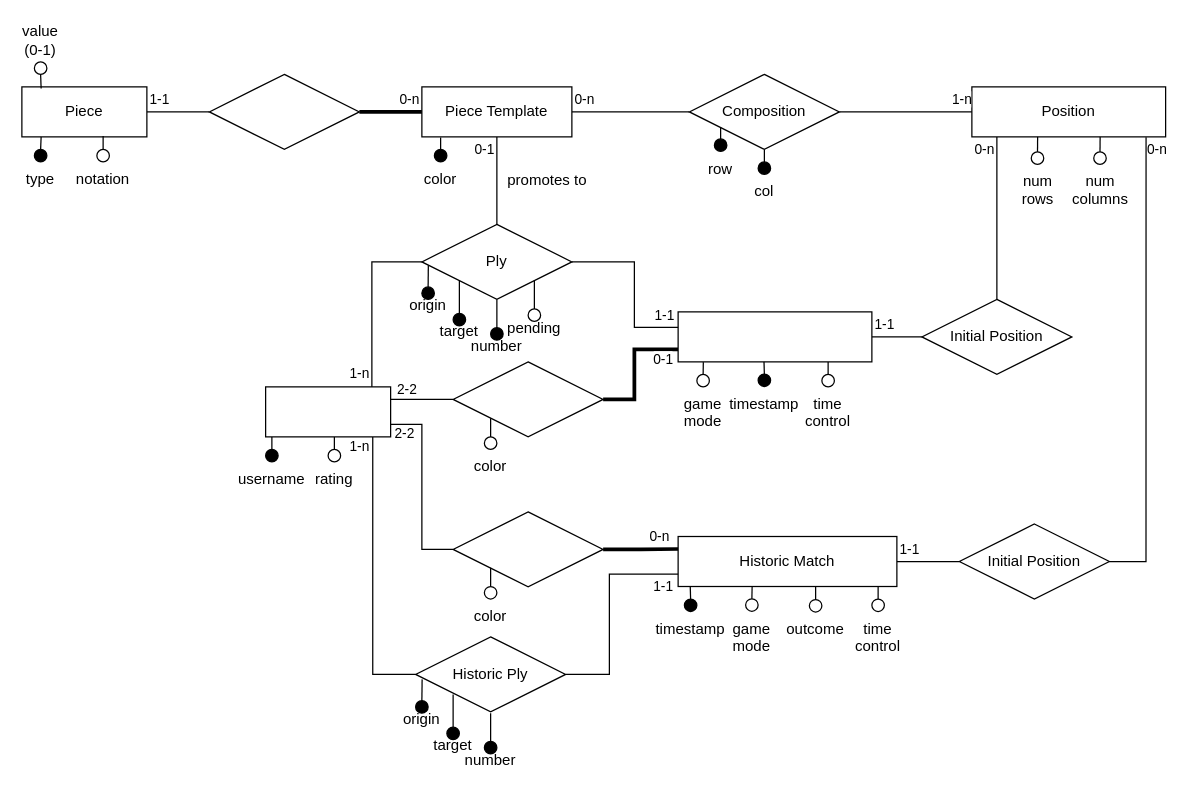
The diagram is 1189 pixels wide and 790 high, and some of its shapes have lost their labels. The shapes that lost their labels are listed below. From the top down, each one's centre as x and y in pixels, then its label:
At (x=283, y=111): "Instantiation".
At (x=774, y=336): "On-Going Match".
At (x=327, y=411): "Player".
At (x=527, y=399): "Participation".
At (x=527, y=549): "Historic Participation".
